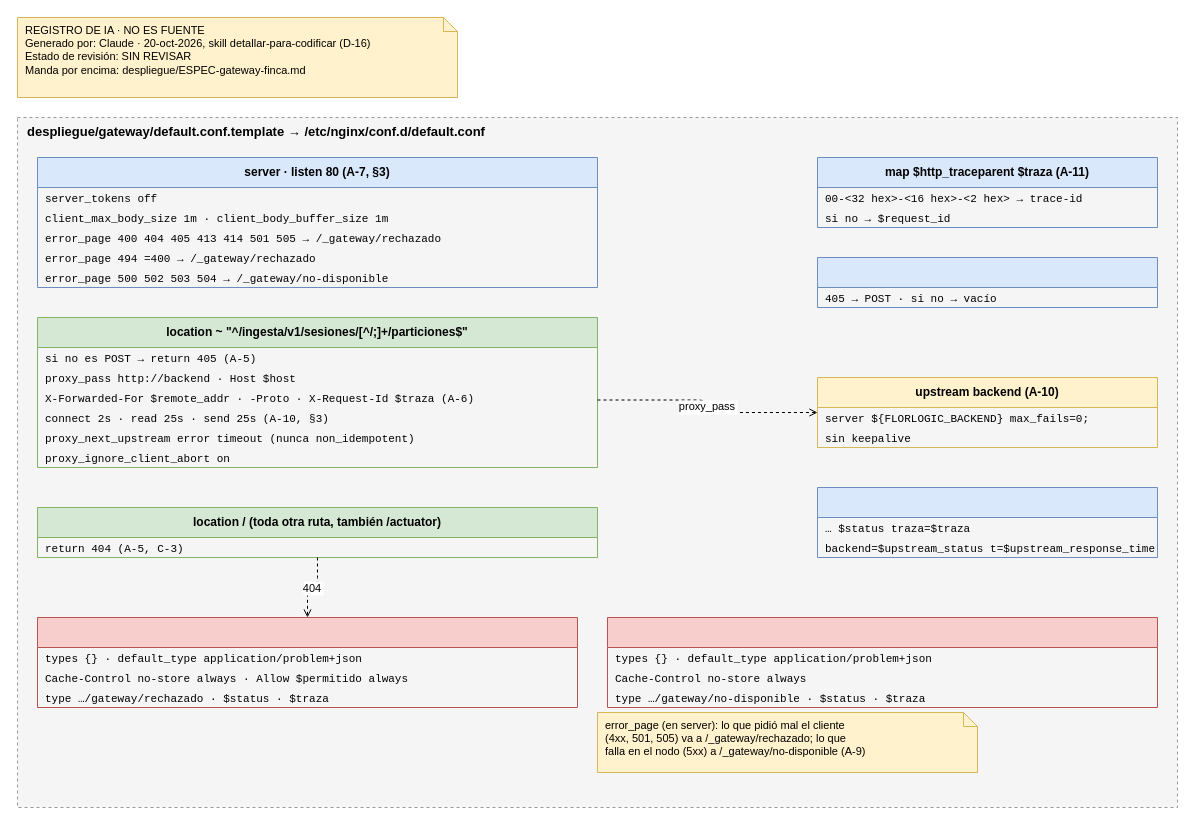
The diagram is 1195 pixels wide and 825 high, and some of its shapes have lost their labels. Here are the shapes that lost their labels. From the top down, the box of each, then its label:
(816, 256, 1158, 308): map $status $permitido (A-5)
(816, 486, 1158, 558): log_format gateway (A-11)
(36, 616, 578, 708): location = /_gateway/rechazado · internal
(606, 616, 1158, 708): location = /_gateway/no-disponible · internal
